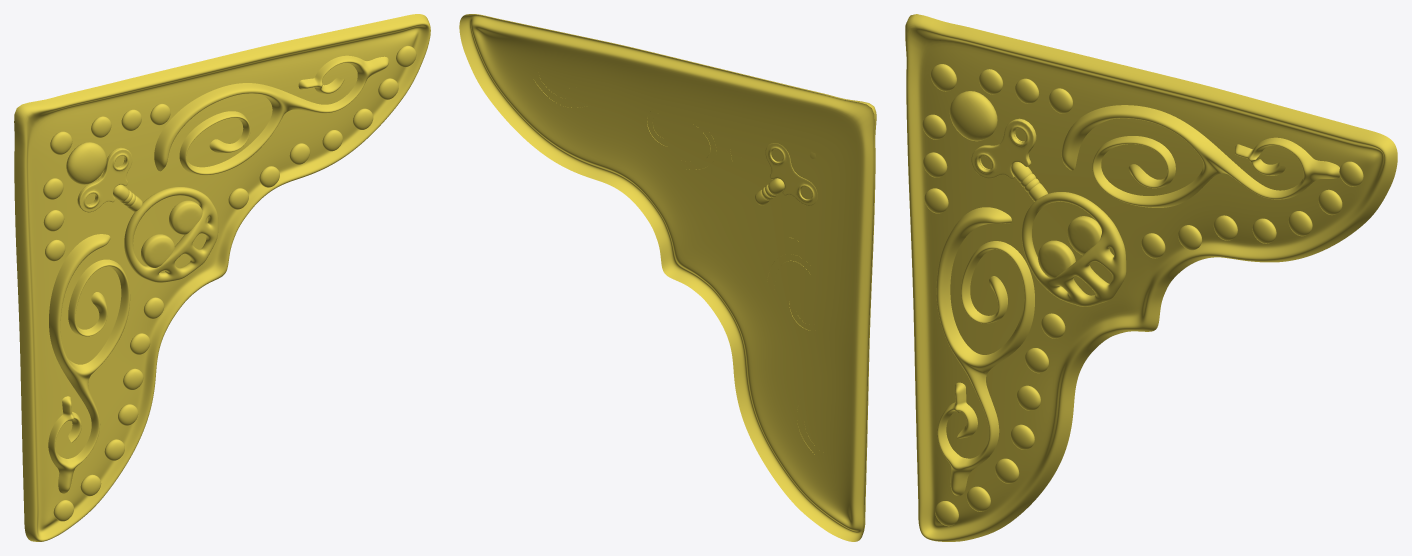
Rendered from borderCorner.fbx.
The picture shows the model from 3 angles, left to right: view 1: azimuth 30°, elevation 25°; view 2: azimuth 150°, elevation 25°; view 3: azimuth 330°, elevation 25°; orthographic projection. The views are drawn at different scales.
Visible parts, largest first — view 1: Cube.010; view 2: Cube.010; view 3: Cube.010.
Part boxes in pixels (x1=…): Cube.010: x1=14, y1=14, x2=430, y2=541; Cube.010: x1=459, y1=14, x2=876, y2=541; Cube.010: x1=905, y1=14, x2=1397, y2=541.
Bounding box in the file's own units: 105 × 106 × 6.57.
